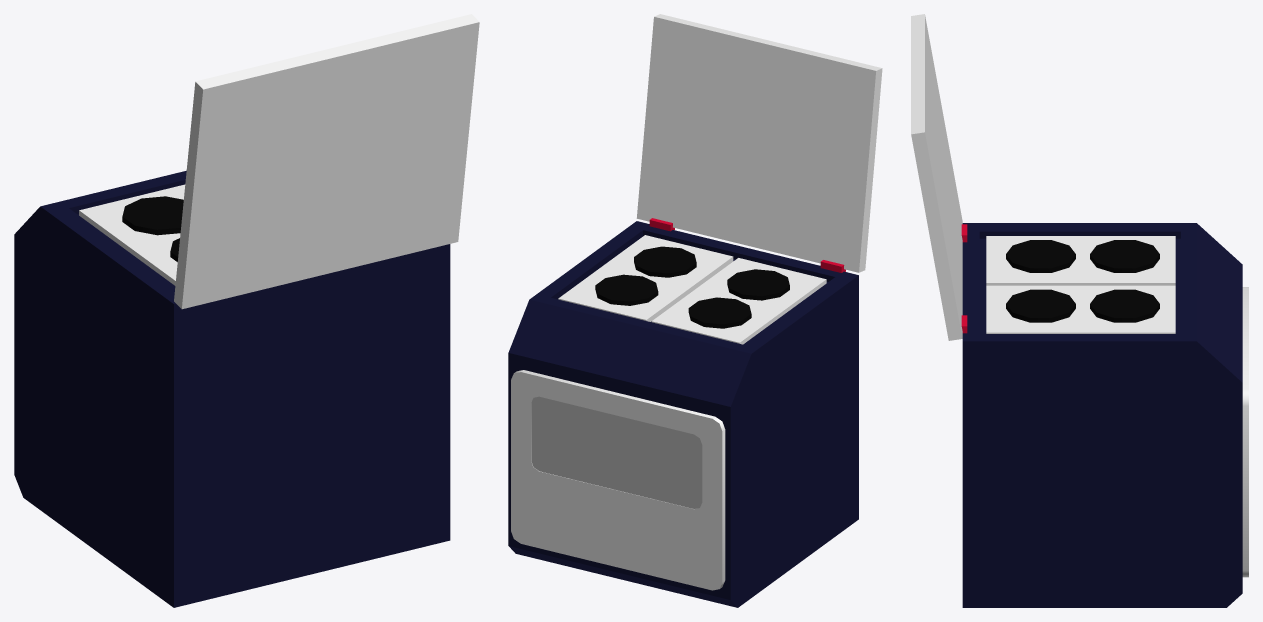
Rendered from oven.glb.
3 views of the same model, side by side, from view 1: azimuth 30°, elevation 25°; view 2: azimuth 150°, elevation 25°; view 3: azimuth 270°, elevation 25° (orthographic). The views are drawn at different scales.
Parts seen in each view (by area): view 1: 6, 9, 8, 7; view 2: 6, 9, 11, 10, 8, 7; view 3: 6, 8, 9, 7, 11.
Part boxes in pixels (x1,y1,x2,y2): 6: (14,170,450,607); 9: (174,14,479,309); 8: (79,184,185,285); 7: (122,196,183,261); 6: (508,221,858,607); 9: (636,14,882,272); 11: (511,370,725,590); 10: (531,396,702,508); 8: (558,235,826,344); 7: (595,246,789,328); 6: (962,223,1242,607); 8: (986,236,1175,333); 9: (911,14,962,340); 7: (1006,240,1159,322); 11: (1242,287,1248,577).
Size of the model in its own units: 3.08 by 5.77 by 3.72.
